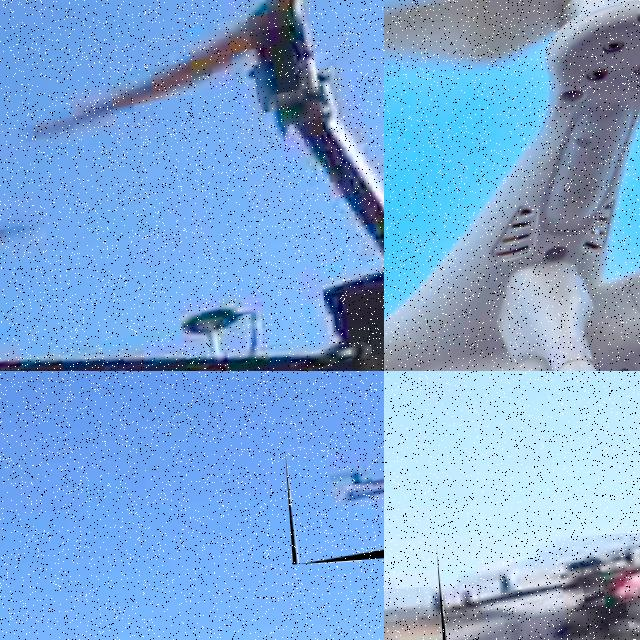drone: (0, 0, 384, 371), (384, 0, 640, 371), (436, 523, 640, 640), (284, 434, 384, 564)
